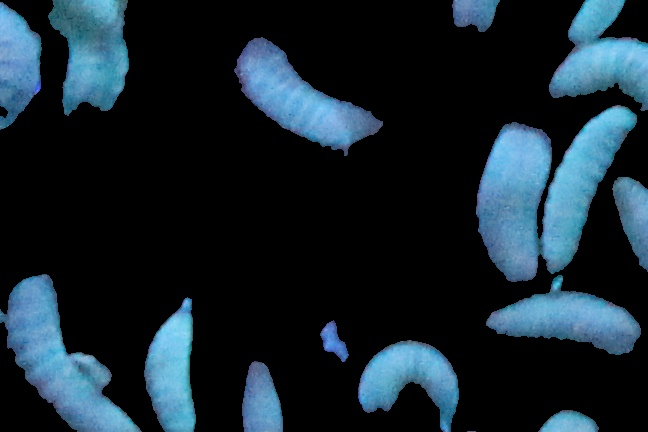larvae: (5, 273, 134, 432), (233, 38, 384, 153), (539, 107, 635, 270), (479, 123, 547, 291), (484, 289, 635, 359), (47, 1, 128, 123), (140, 297, 207, 431), (360, 342, 455, 428), (549, 39, 648, 99), (1, 1, 43, 137), (238, 361, 283, 430), (567, 1, 630, 50)
